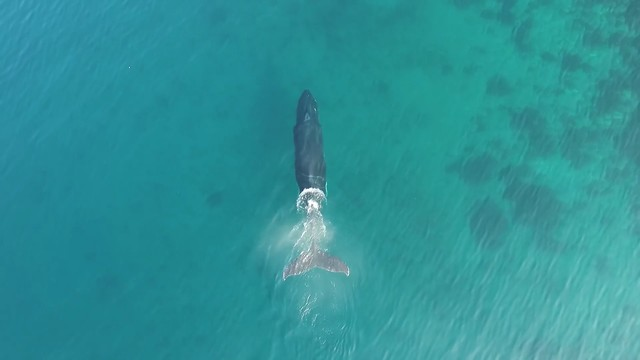whale: (271, 82, 356, 291)
